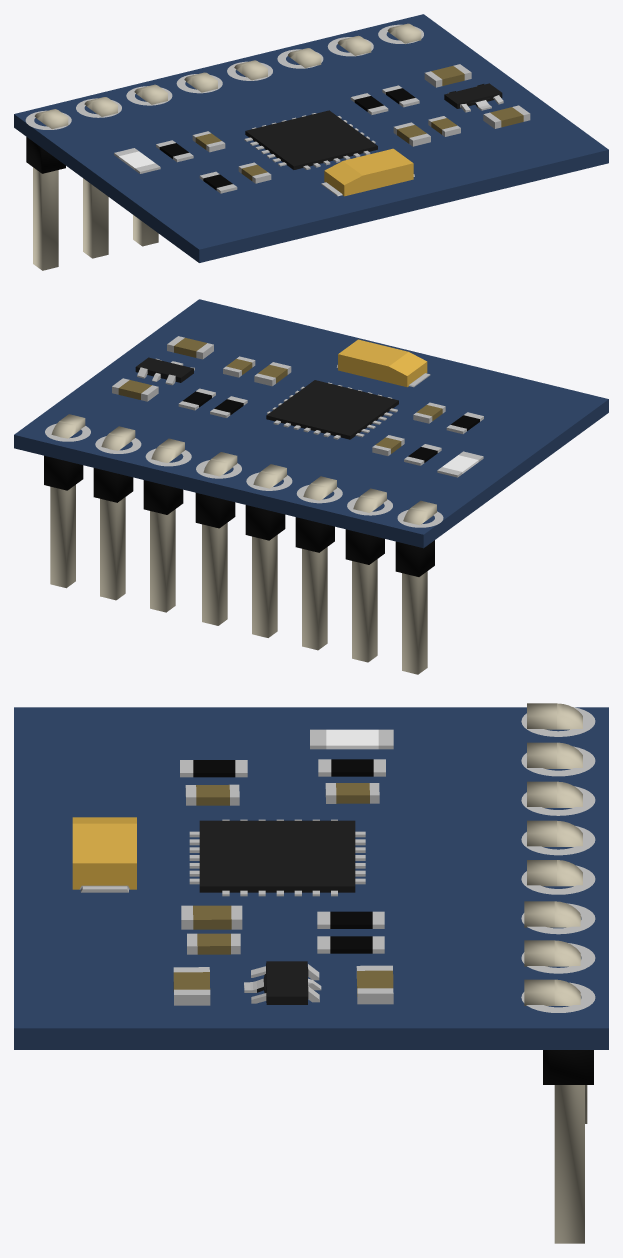
Rendered from MPU 6050 Module.fbx.
3 views of the same model, one above another, from view 1: azimuth 30°, elevation 25°; view 2: azimuth 150°, elevation 25°; view 3: azimuth 270°, elevation 25° (orthographic). The views are drawn at different scales.
Parts seen in each view (by area): view 1: MPU6050; view 2: MPU6050; view 3: MPU6050.
Boxes of the visible parts, box(x1,y1,x2,y2) form: MPU6050: box(14, 14, 608, 270); MPU6050: box(14, 299, 608, 674); MPU6050: box(14, 703, 608, 1243).
Size of the model in its own units: 1167 by 446 by 912.
